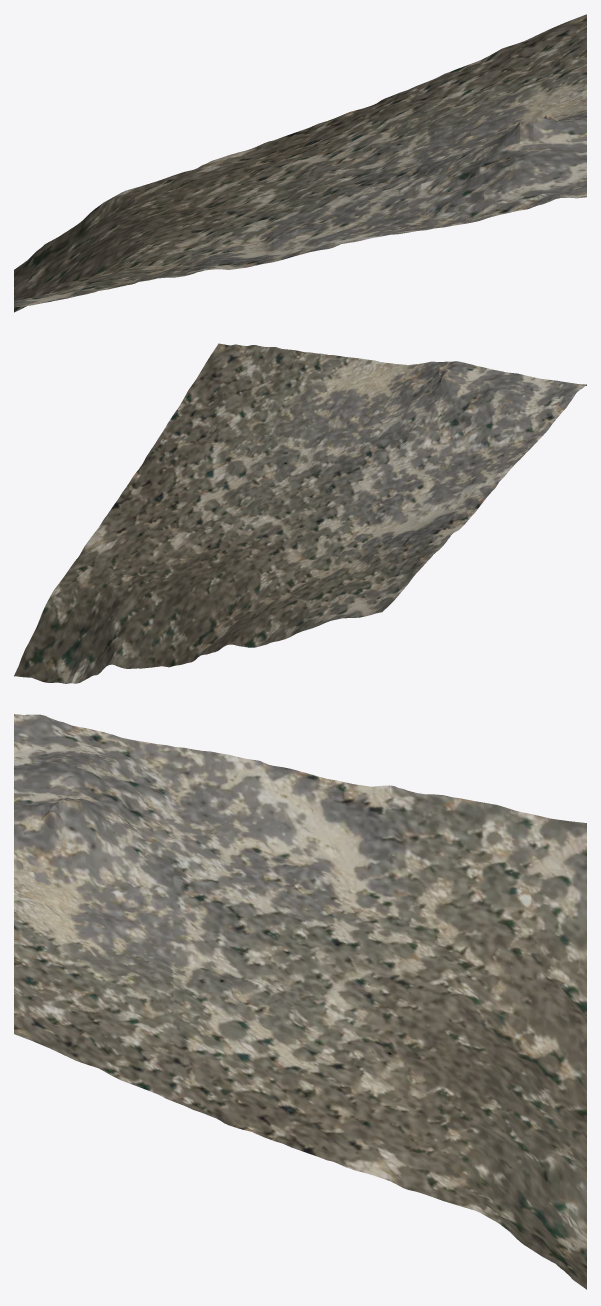
3 renders of one model, top to bottom at view 1: azimuth 90°, elevation 25°; view 2: azimuth 150°, elevation 25°; view 3: azimuth 270°, elevation 25°, orthographic. The views are drawn at different scales.
Size of the model in its own units: 250 by 151 by 241.
1 material, 1 textured.
